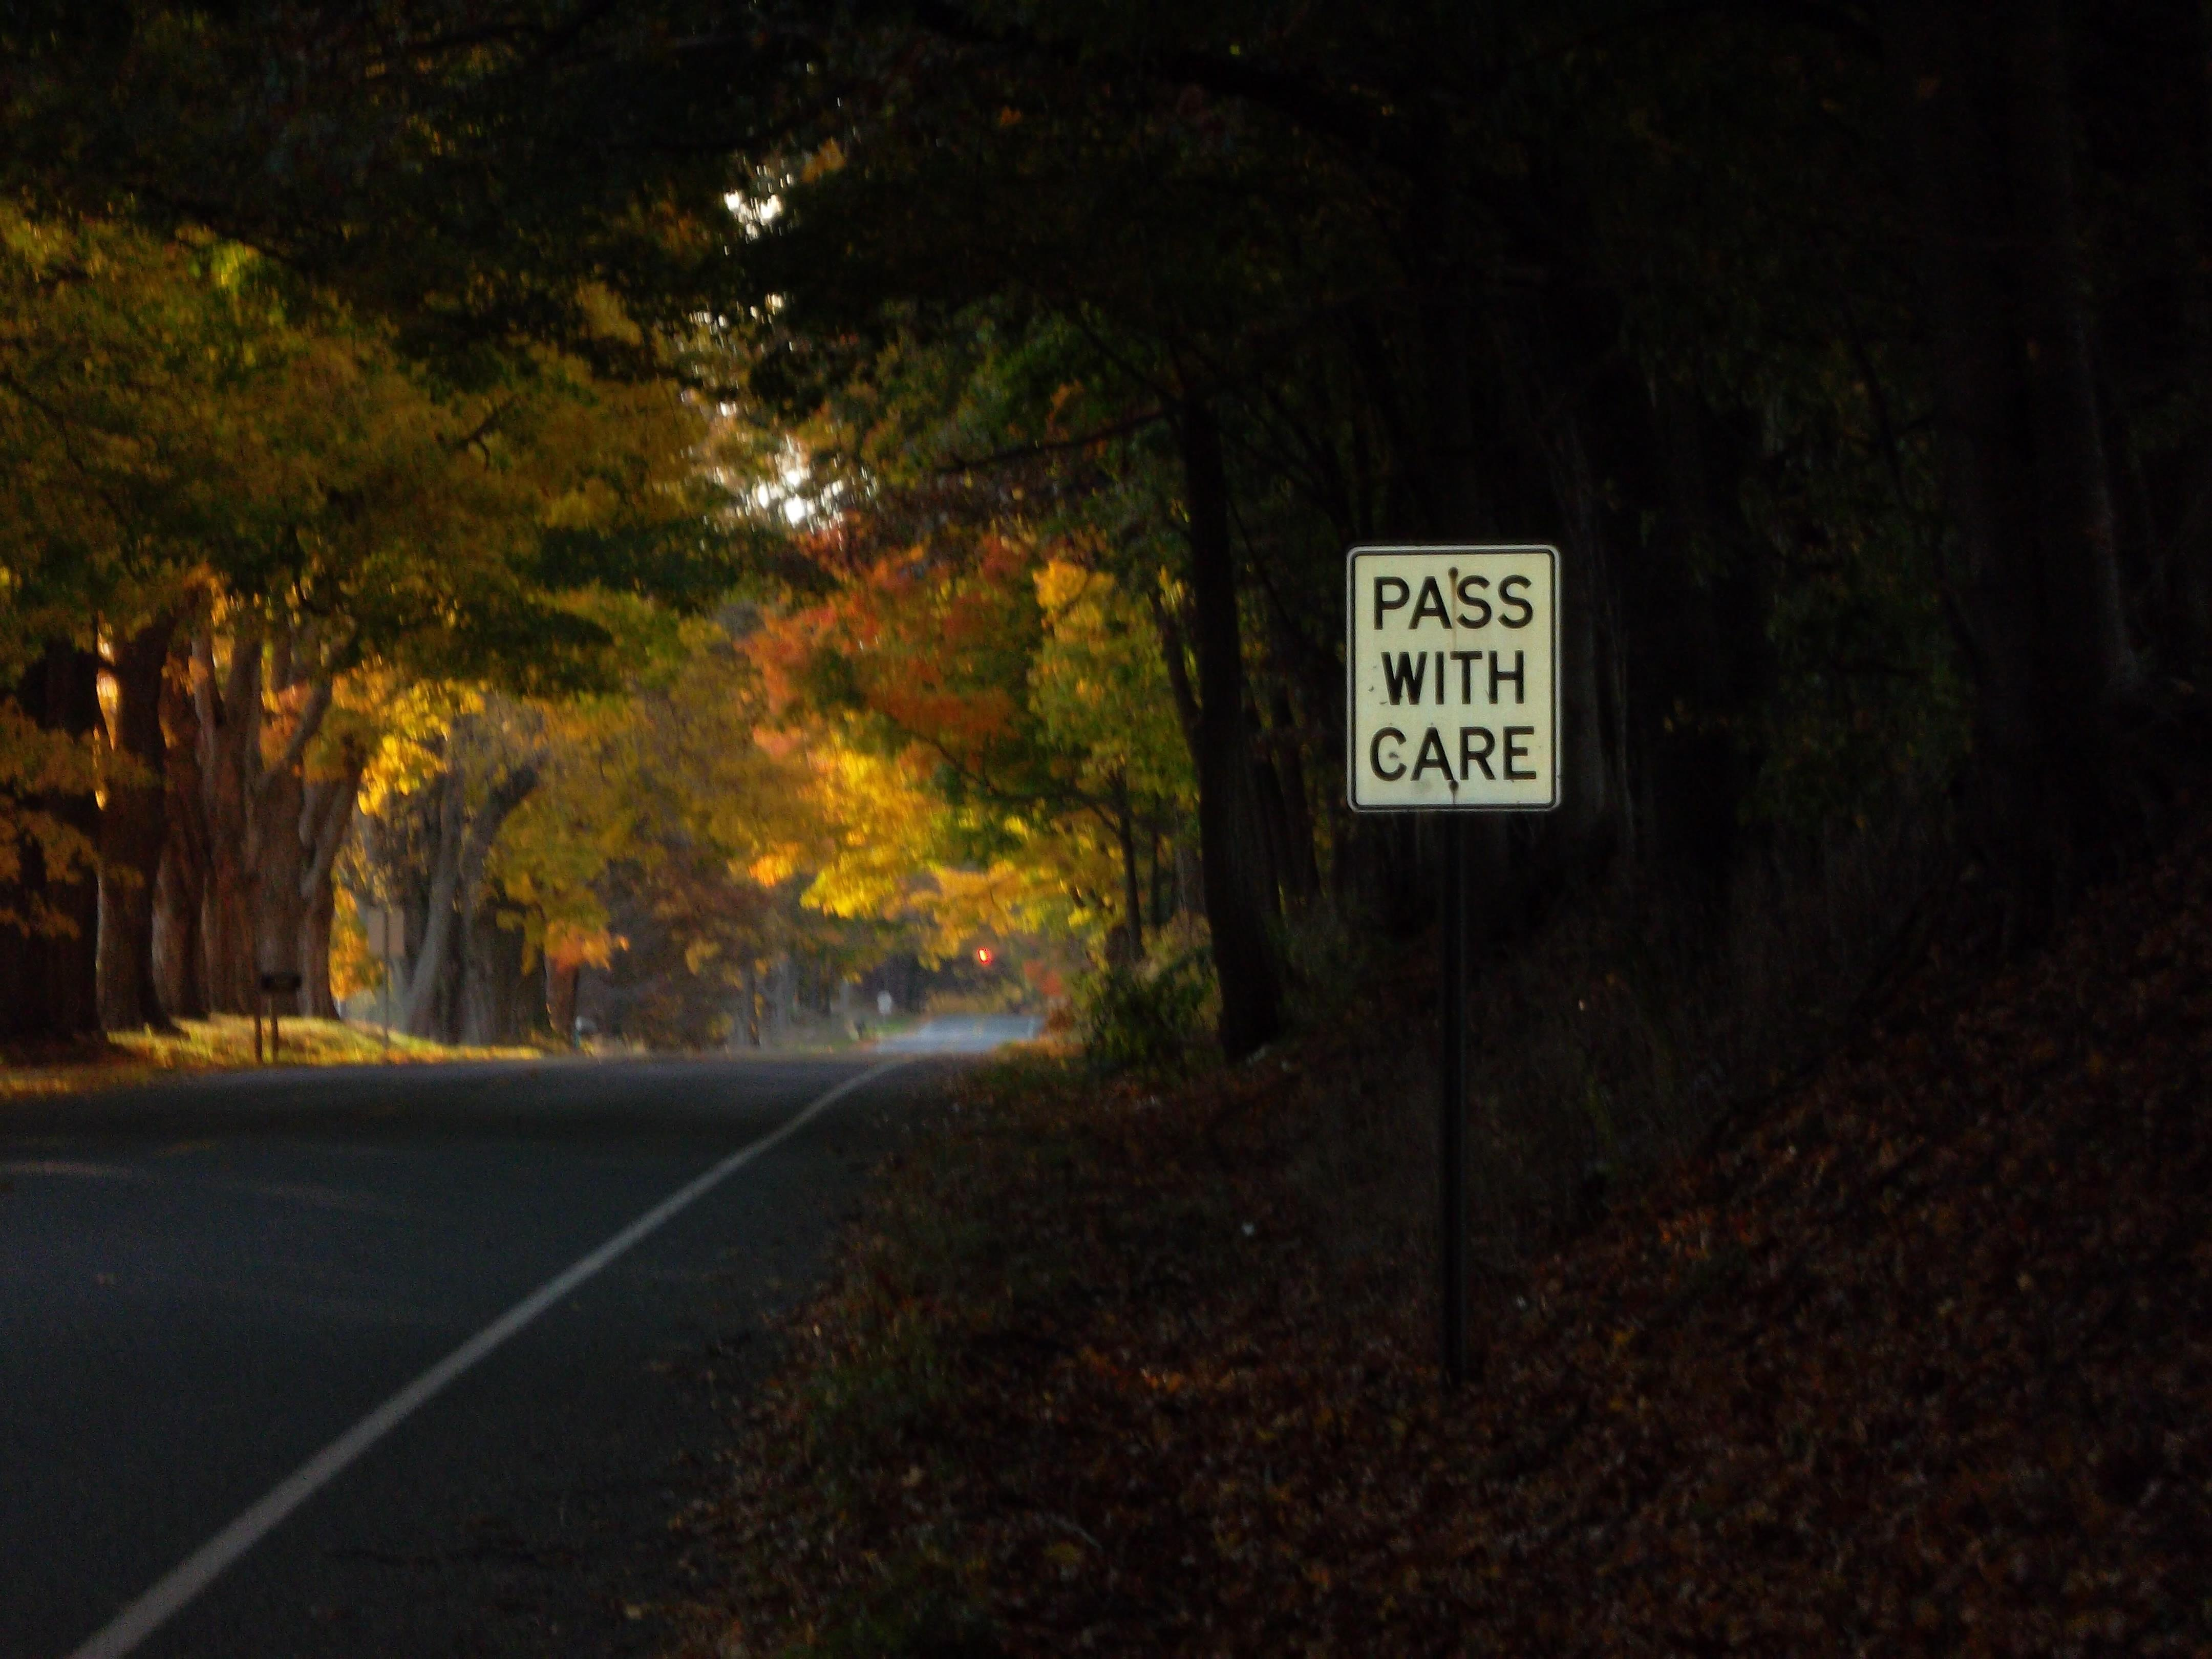regulatory: (1348, 526, 1571, 821)
